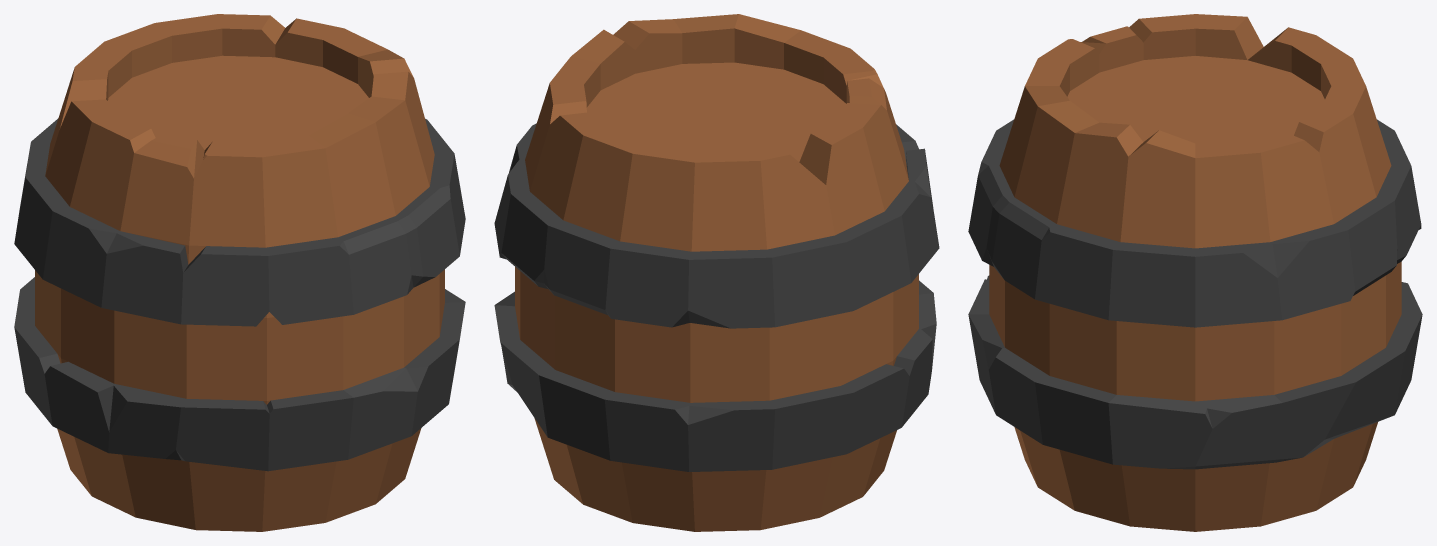
The model's file is Barrel.glb.
3 views of the same model, side by side, from view 1: azimuth 30°, elevation 25°; view 2: azimuth 150°, elevation 25°; view 3: azimuth 270°, elevation 25° (orthographic).
Visible parts, largest first — view 1: Cylinder, Cylinder.001; view 2: Cylinder, Cylinder.001; view 3: Cylinder, Cylinder.001.
Boxes of the visible parts, x1,y1,x2,y2 form: Cylinder: [35, 14, 444, 531]; Cylinder.001: [14, 118, 465, 471]; Cylinder: [515, 14, 918, 531]; Cylinder.001: [494, 123, 939, 471]; Cylinder: [989, 14, 1401, 531]; Cylinder.001: [968, 119, 1422, 469].
Bounding box in the file's own units: 4.17 × 3.9 × 4.17.
